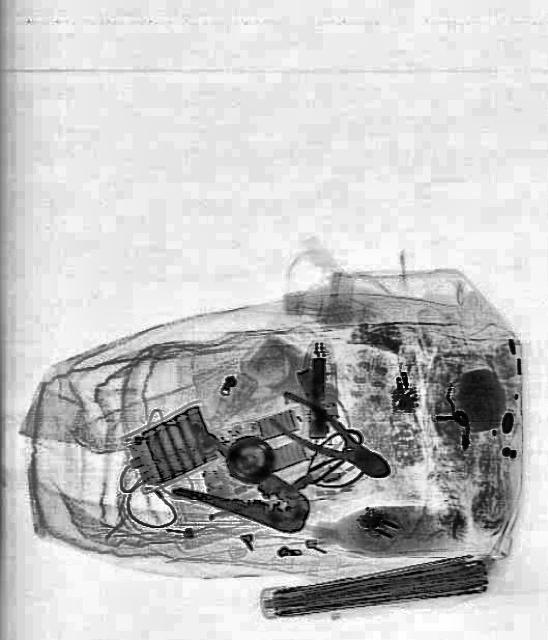Pliers: (168, 426, 320, 554), (263, 385, 397, 493)
Scissors: (266, 422, 378, 520)
